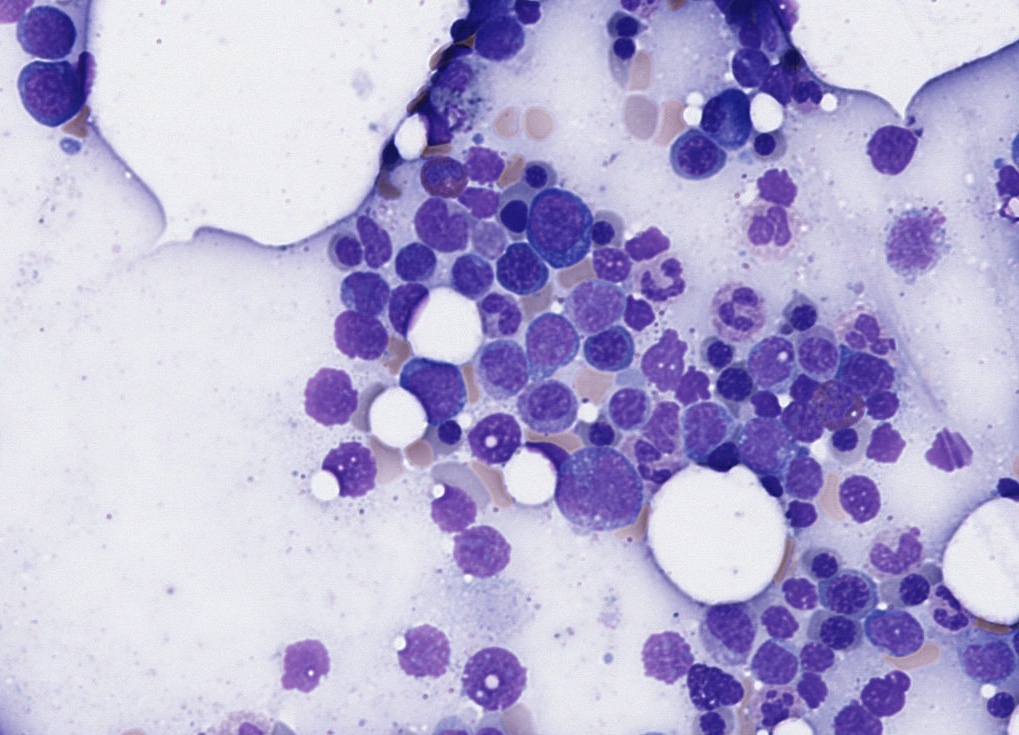objectness: (692, 94, 742, 144), (679, 405, 729, 455), (414, 204, 464, 254), (620, 429, 670, 479), (734, 202, 784, 252), (927, 594, 977, 644), (840, 304, 890, 354), (702, 287, 752, 337), (628, 262, 678, 312), (484, 291, 534, 341), (791, 330, 841, 380), (521, 376, 571, 426), (709, 604, 759, 654), (479, 342, 529, 392), (415, 147, 465, 197), (810, 374, 860, 424), (869, 536, 919, 586), (736, 423, 786, 473), (871, 608, 921, 658), (570, 282, 620, 332), (412, 364, 462, 414), (19, 5, 69, 55), (523, 319, 573, 369), (464, 216, 514, 266), (489, 193, 539, 243), (336, 306, 386, 356), (670, 358, 720, 408), (754, 594, 804, 644), (961, 639, 1011, 689), (778, 363, 828, 413), (466, 656, 516, 706), (725, 41, 775, 91), (587, 240, 637, 290), (887, 219, 937, 269), (859, 672, 909, 722), (754, 59, 804, 109), (775, 453, 825, 503), (777, 489, 827, 539), (776, 567, 826, 617), (724, 13, 774, 63), (738, 378, 788, 428), (689, 660, 739, 710), (458, 524, 508, 574), (468, 413, 518, 463), (428, 484, 478, 534), (599, 382, 649, 432), (859, 380, 909, 430), (750, 335, 800, 385), (303, 368, 353, 418), (380, 281, 430, 331), (413, 103, 463, 153), (458, 173, 508, 223), (776, 69, 826, 119), (788, 662, 838, 712), (752, 159, 802, 209), (280, 644, 330, 694), (325, 444, 375, 494), (349, 218, 399, 268), (637, 630, 687, 680), (857, 417, 907, 467), (830, 473, 880, 523), (395, 629, 445, 679), (462, 137, 512, 187), (428, 51, 478, 101), (927, 426, 977, 476), (472, 14, 522, 64), (864, 122, 914, 172), (621, 218, 671, 268), (787, 635, 837, 685), (638, 338, 688, 388), (339, 266, 389, 316), (446, 252, 496, 302), (750, 637, 800, 687), (387, 236, 437, 286), (25, 68, 75, 118), (573, 408, 623, 458), (496, 242, 546, 292), (423, 408, 473, 458), (887, 565, 937, 615), (583, 321, 633, 371), (601, 0, 651, 50), (813, 608, 863, 658), (797, 538, 847, 588), (321, 227, 371, 277), (693, 330, 743, 380), (532, 197, 582, 247), (601, 21, 651, 71), (742, 122, 792, 172), (672, 129, 722, 179), (821, 415, 871, 465), (510, 150, 560, 200), (709, 354, 759, 404), (578, 207, 628, 257), (825, 569, 875, 619), (777, 287, 827, 337), (569, 467, 619, 517), (750, 686, 800, 735), (740, 0, 790, 44), (977, 682, 1019, 732), (830, 697, 880, 735), (687, 699, 737, 735)
